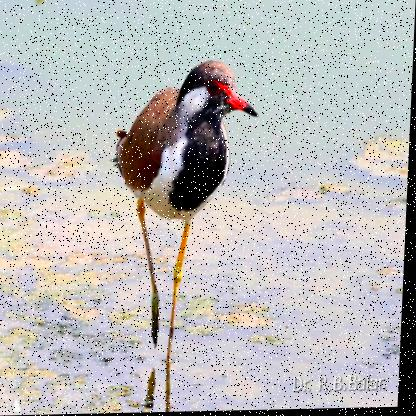Burung: (110, 59, 261, 363)
